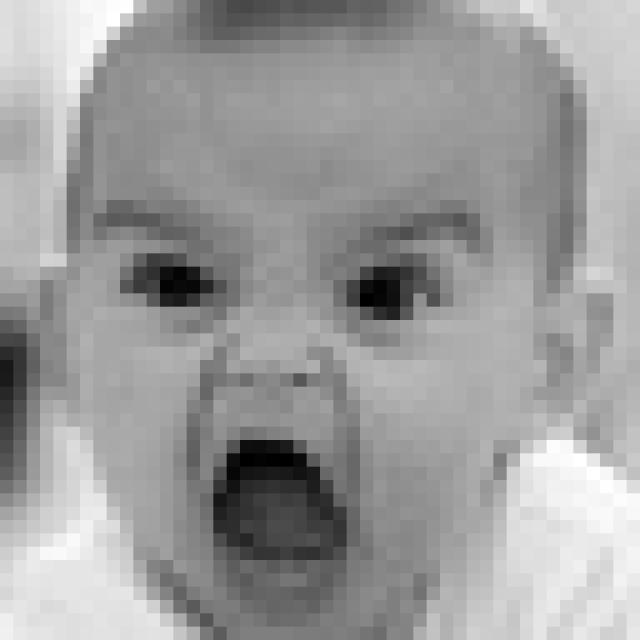angry: (74, 187, 500, 618)
